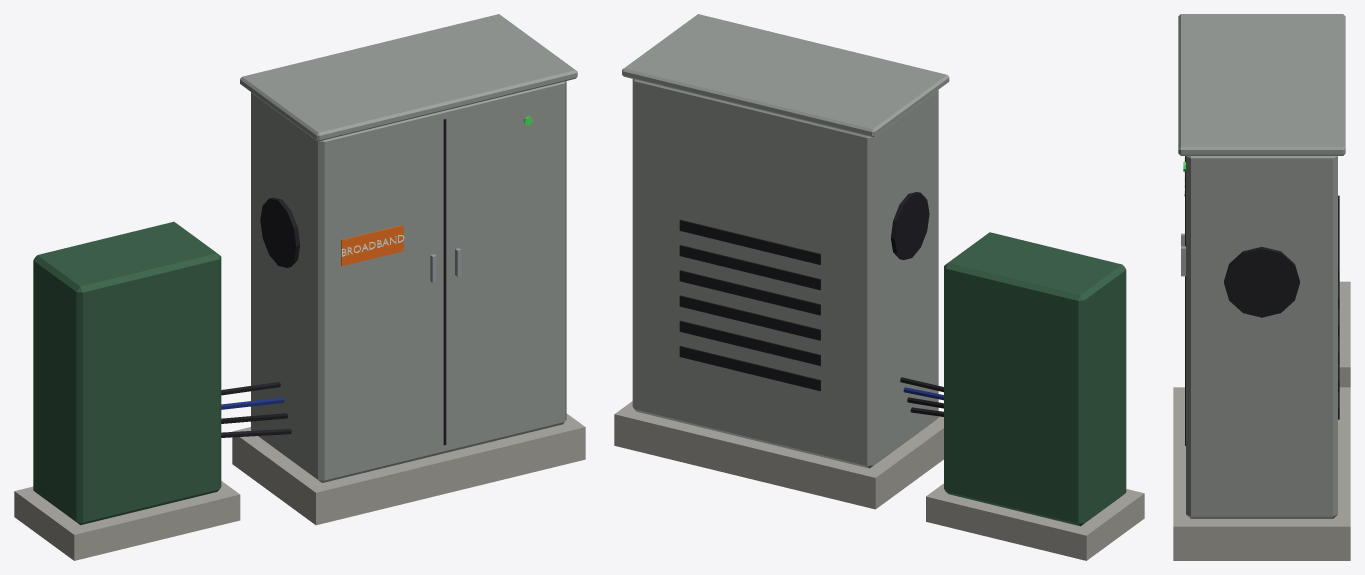
File: site.dslam-cabinet.glb
3 renders of one model, left to right at view 1: azimuth 30°, elevation 25°; view 2: azimuth 150°, elevation 25°; view 3: azimuth 270°, elevation 25°, orthographic. The views are drawn at different scales.
Visible parts, largest first — view 1: cab-body, old-cab, cab-roof, cab-plinth, old-plinth, fan-1, sticker, cab-seam; view 2: cab-body, old-cab, cab-roof, cab-plinth, old-plinth, fan-1, grille2, grille4, grille0, grille1, grille5, grille3; view 3: cab-body, cab-roof, cab-plinth, fan1, old-plinth, cab-seam.
Part boxes in pixels (x1,y1,x2,y2): cab-body: [251, 81, 566, 482]; old-cab: [33, 221, 221, 525]; cab-roof: [240, 14, 577, 141]; cab-plinth: [232, 413, 585, 525]; old-plinth: [14, 481, 240, 560]; fan-1: [260, 197, 300, 267]; sticker: [341, 225, 403, 266]; cab-seam: [443, 119, 446, 445]; cab-body: [632, 79, 938, 468]; old-cab: [944, 232, 1126, 526]; cab-roof: [622, 14, 949, 137]; cab-plinth: [614, 401, 943, 509]; old-plinth: [926, 483, 1144, 560]; fan-1: [890, 192, 929, 259]; grille2: [679, 295, 820, 340]; grille4: [679, 245, 820, 290]; grille0: [679, 346, 820, 390]; grille1: [679, 320, 820, 365]; grille5: [679, 219, 820, 264]; grille3: [679, 270, 820, 315]; cab-body: [1186, 156, 1337, 518]; cab-roof: [1178, 14, 1345, 155]; cab-plinth: [1173, 387, 1350, 560]; fan1: [1224, 247, 1299, 317]; old-plinth: [1339, 281, 1350, 387]; cab-seam: [1185, 156, 1185, 445].
Bounding box in the file's own units: 2.35 × 1.79 × 0.7.
